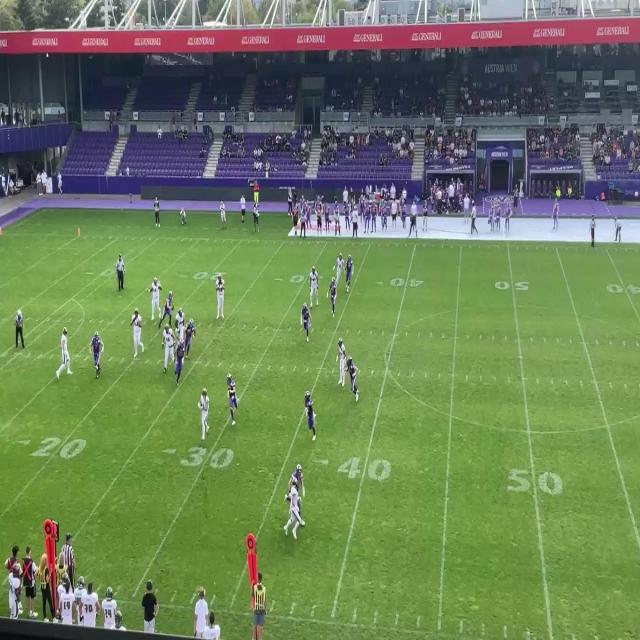2: (30, 433, 61, 463)
3: (182, 442, 208, 474)
4: (335, 451, 363, 485)
5: (504, 463, 534, 501)
american-football-players: (284, 464, 308, 528), (284, 478, 300, 539), (57, 325, 75, 379), (301, 391, 317, 441), (160, 325, 178, 369), (345, 355, 361, 403), (89, 329, 105, 377), (225, 375, 239, 427), (198, 386, 210, 442), (131, 308, 145, 356), (214, 272, 227, 322), (147, 279, 162, 321), (299, 301, 312, 346), (160, 290, 174, 327), (336, 340, 347, 386), (174, 341, 185, 387), (308, 266, 320, 308), (342, 254, 354, 292), (184, 319, 195, 360), (333, 254, 345, 291), (173, 306, 185, 342), (326, 278, 336, 320)
